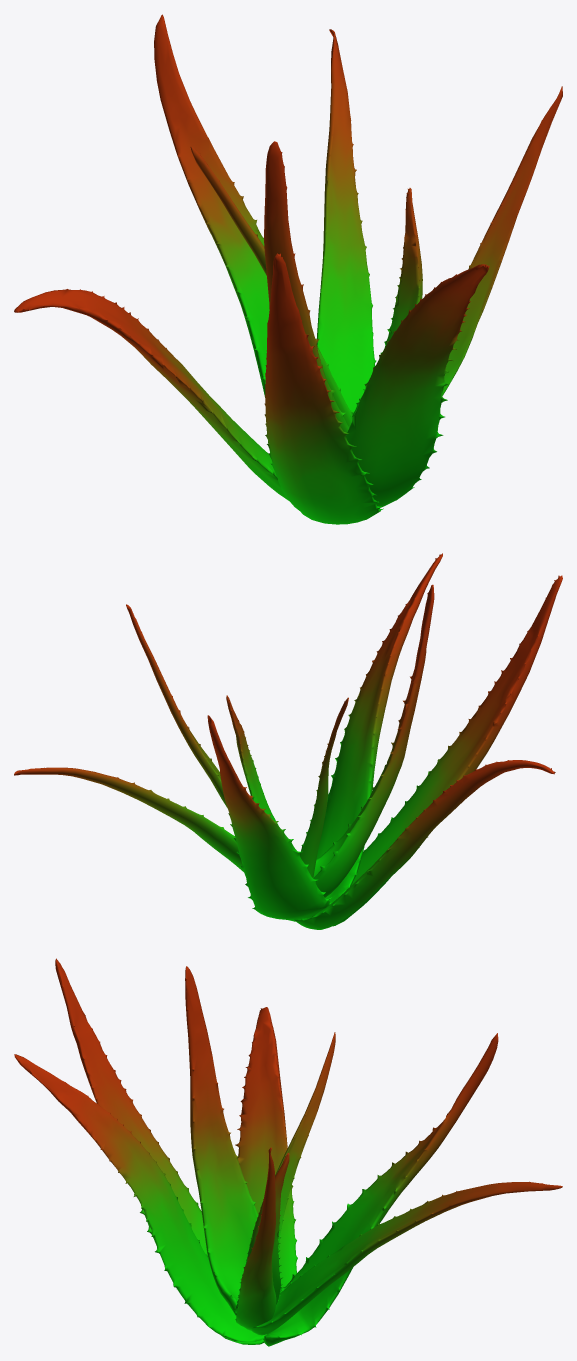
Rendered from Aloe Vera_LOD2_Var8_ve4tbbrha.fbx.
3 views of the same model, one above another, from view 1: azimuth 30°, elevation 25°; view 2: azimuth 150°, elevation 25°; view 3: azimuth 270°, elevation 25° (orthographic). The views are drawn at different scales.
Parts seen in each view (by area): view 1: _5qeo_Var8_LOD2; view 2: _5qeo_Var8_LOD2; view 3: _5qeo_Var8_LOD2.
Boxes of the visible parts, x1,y1,x2,y2 form: _5qeo_Var8_LOD2: (14,14,562,524); _5qeo_Var8_LOD2: (14,553,562,929); _5qeo_Var8_LOD2: (14,958,562,1346).
Bounding box in the file's own units: 47.55 × 35.67 × 53.22.
